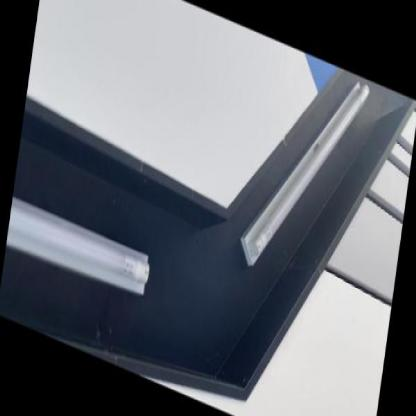light_off: (226, 34, 375, 317), (4, 140, 166, 333)
